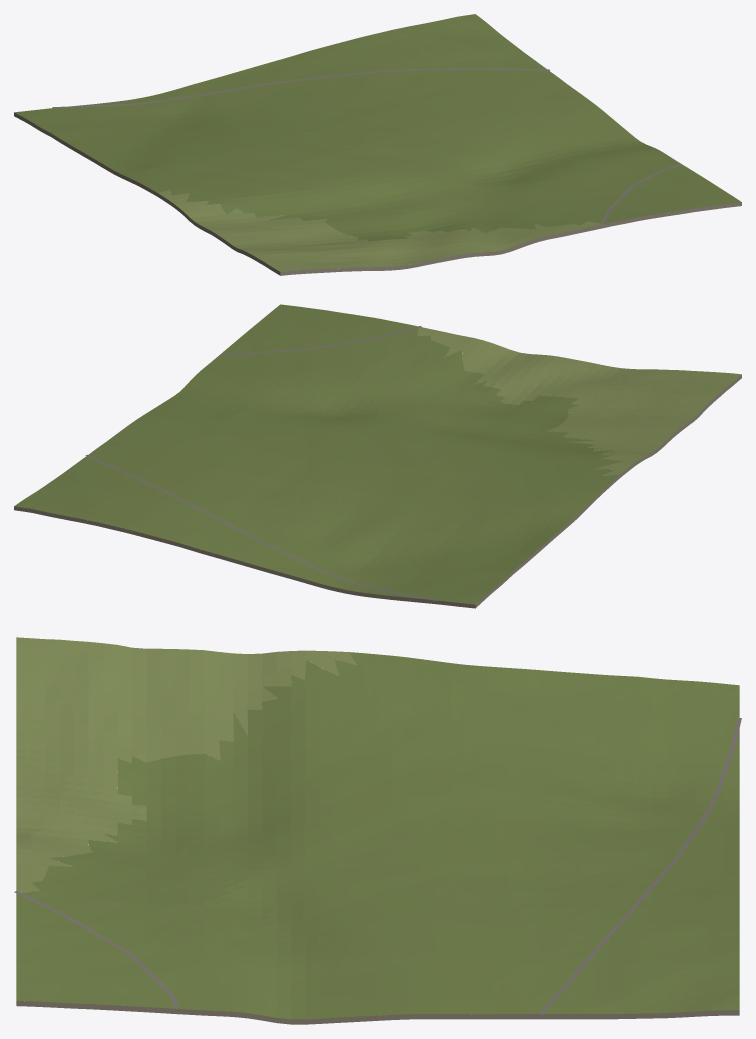
The model's file is parca_+11_-3-uzak.glb.
3 renders of one model, top to bottom at view 1: azimuth 30°, elevation 25°; view 2: azimuth 150°, elevation 25°; view 3: azimuth 270°, elevation 25°, orthographic. The views are drawn at different scales.
Visible parts, largest first — view 1: parca_+11_-3_arazi_uzak, parca_+11_-3_yollar_uzak; view 2: parca_+11_-3_arazi_uzak, parca_+11_-3_yollar_uzak; view 3: parca_+11_-3_arazi_uzak, parca_+11_-3_yollar_uzak.
Boxes of the visible parts, x1,y1,x2,y2 form: parca_+11_-3_arazi_uzak: (14,14,741,275); parca_+11_-3_yollar_uzak: (52,68,682,224); parca_+11_-3_arazi_uzak: (14,304,741,608); parca_+11_-3_yollar_uzak: (85,326,436,600); parca_+11_-3_arazi_uzak: (16,637,739,1024); parca_+11_-3_yollar_uzak: (14,717,741,1014).
Size of the model in its own units: 1003 by 125 by 1007.
